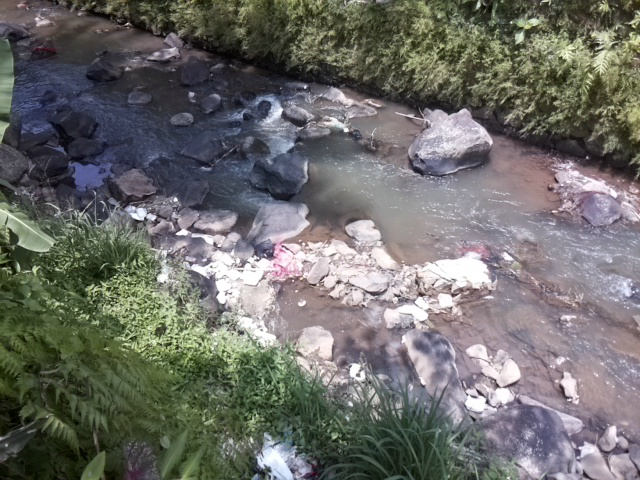Sampah_Plastik: (274, 244, 304, 285), (250, 239, 278, 258)
Sampah_Styrofoam: (202, 255, 267, 292)
